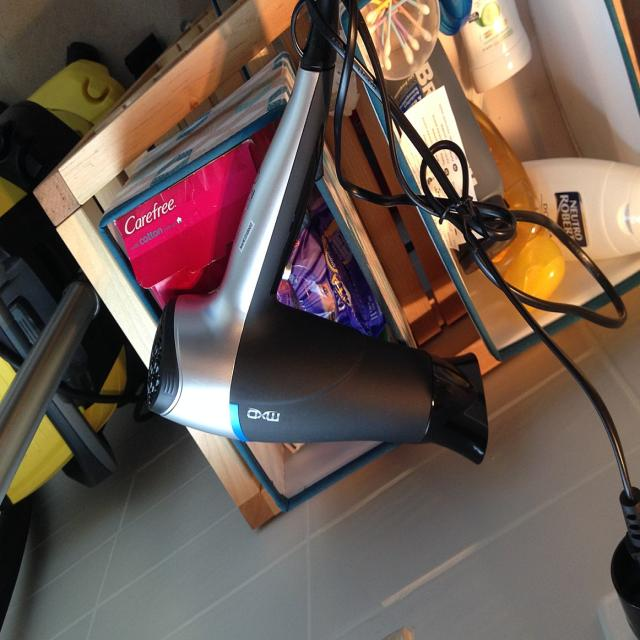dryer: (146, 0, 490, 469)
